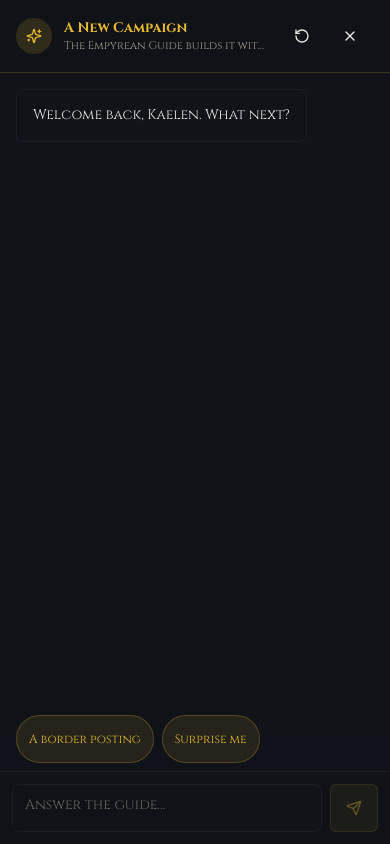
EmpyreanOnboardingChat › greets the guide by itself, shows its reply and suggestions, and sends a tapped suggestion
Expected: the text "Welcome back, Kaelen. What next?" is shown, top-left (33, 104), bottom-right (290, 127)
What coordinates should you click on to do the following:
click the button "A border posting"
I would click on:
 (85, 739)
Its box is top-left (16, 715), bottom-right (154, 763).
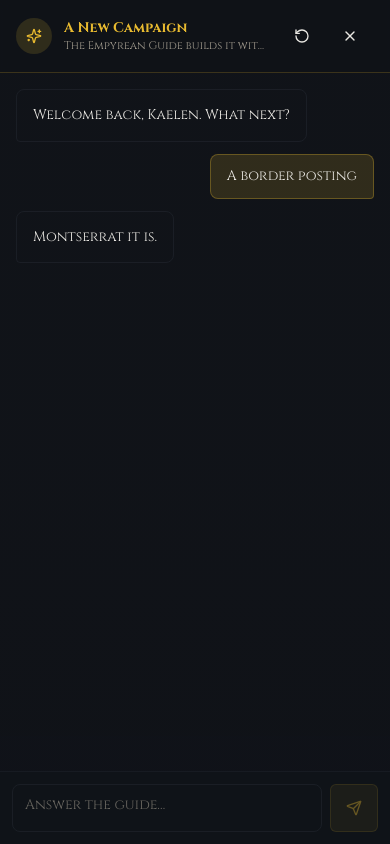
Expected: the text "Montserrat it is." is shown, top-left (33, 226), bottom-right (157, 248)
